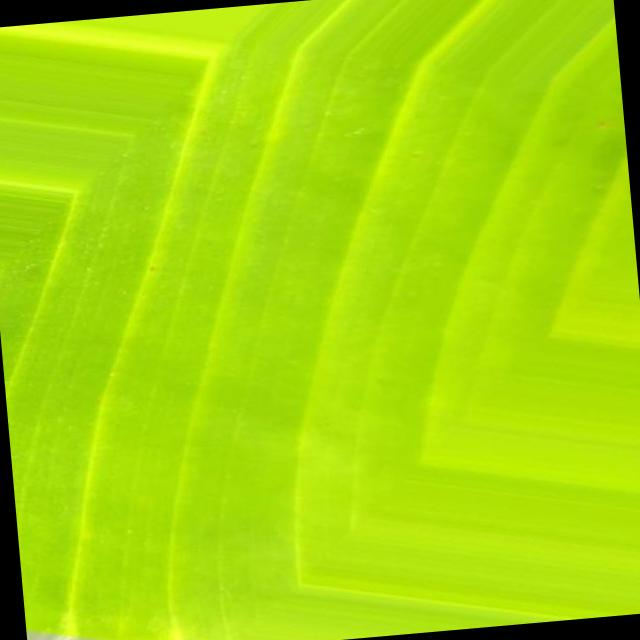Banana_Healthy: (15, 22, 574, 560)
